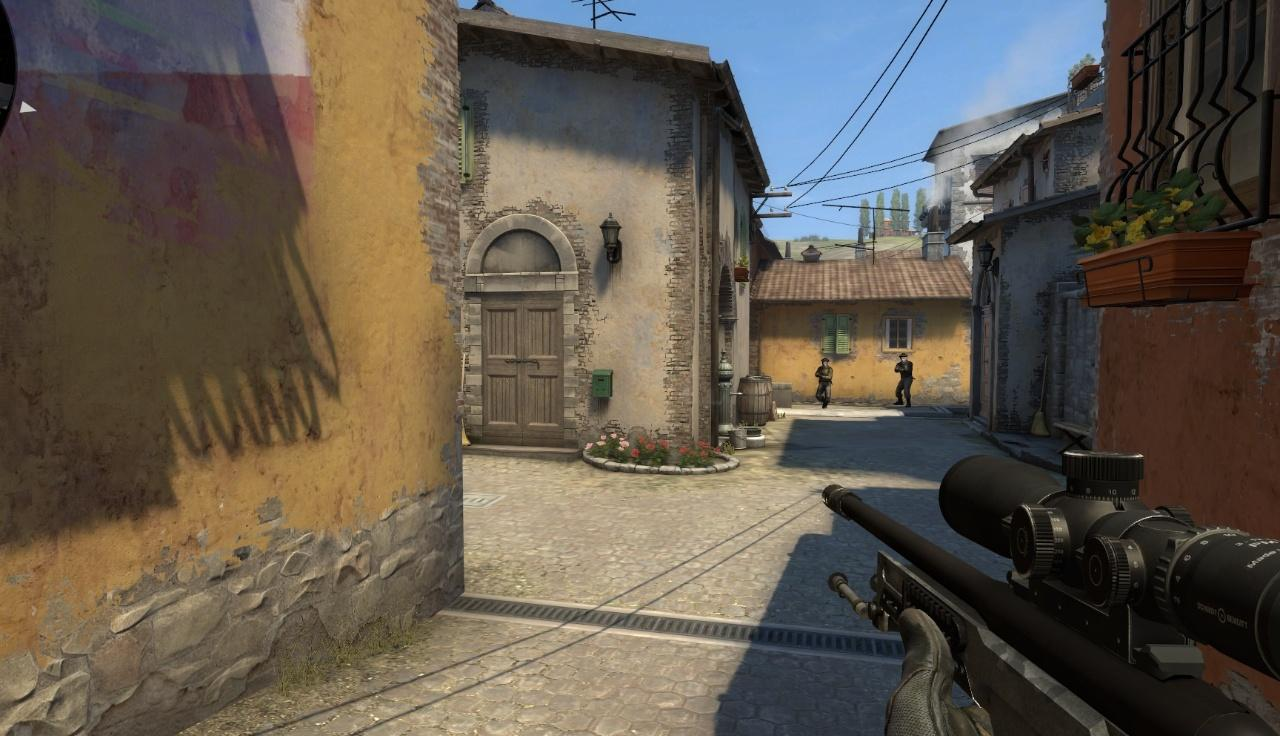sniper: (831, 449, 1280, 733)
tt: (893, 353, 914, 407), (815, 357, 833, 409)
tthead: (821, 357, 829, 368), (900, 353, 908, 363)
